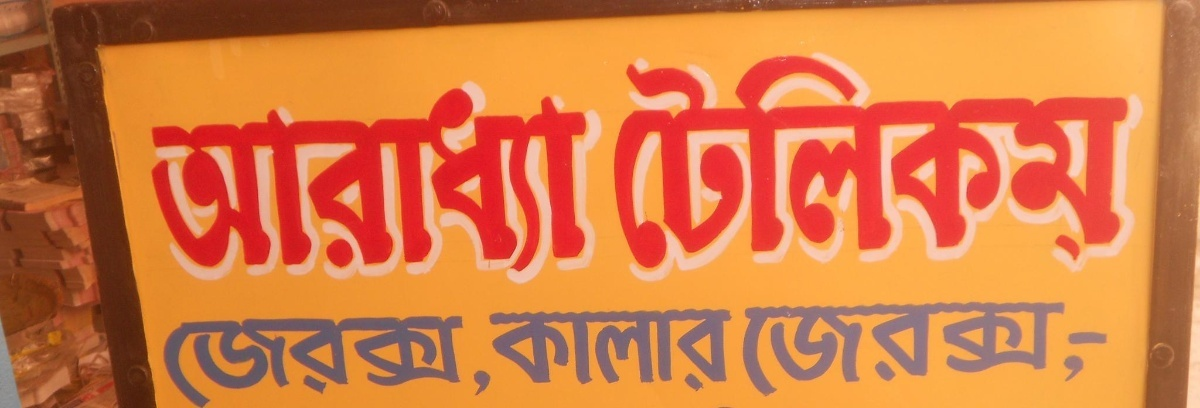text: (609, 48, 624, 281), (625, 48, 640, 281), (641, 48, 656, 281), (657, 48, 672, 281), (673, 48, 688, 281), (689, 48, 704, 281), (705, 48, 720, 281), (721, 48, 736, 281), (737, 48, 752, 281), (753, 48, 768, 281), (769, 48, 784, 281), (785, 48, 800, 281), (801, 48, 816, 281), (817, 48, 832, 281), (833, 48, 848, 281), (849, 48, 864, 281), (865, 48, 880, 281), (881, 48, 896, 281), (897, 48, 912, 281), (913, 48, 928, 281), (929, 48, 944, 281), (945, 48, 960, 281), (961, 48, 976, 281), (977, 48, 992, 281), (993, 48, 1008, 281), (1009, 48, 1024, 281), (1025, 48, 1040, 281), (1041, 48, 1056, 281), (1057, 48, 1072, 281), (1073, 48, 1088, 281), (1089, 48, 1104, 281), (1105, 48, 1120, 281), (1121, 48, 1136, 281), (161, 82, 176, 282), (177, 82, 192, 282), (193, 82, 208, 282), (209, 82, 224, 282), (225, 82, 240, 282), (241, 82, 256, 282), (257, 82, 272, 282), (273, 82, 288, 282), (289, 82, 304, 282), (305, 82, 320, 282), (321, 82, 336, 282), (337, 82, 352, 282), (353, 82, 368, 282), (369, 82, 384, 282), (385, 82, 400, 282), (401, 82, 416, 282), (417, 82, 432, 282), (433, 82, 448, 282), (449, 82, 464, 282), (465, 82, 480, 282), (481, 82, 496, 282), (497, 82, 512, 282), (513, 82, 528, 282), (529, 82, 544, 282), (545, 82, 560, 282), (561, 82, 576, 282), (577, 82, 592, 282), (149, 82, 160, 282), (1137, 48, 1144, 281), (593, 82, 601, 282), (753, 298, 768, 398), (769, 298, 784, 398), (785, 298, 800, 398), (801, 298, 816, 398), (817, 298, 832, 398), (833, 298, 848, 398), (849, 298, 864, 398), (865, 298, 880, 398), (881, 298, 896, 398), (897, 298, 912, 398), (913, 298, 928, 398), (929, 298, 944, 398), (945, 298, 960, 398), (961, 298, 976, 398), (977, 298, 992, 398), (993, 298, 1008, 398), (1009, 298, 1024, 398), (1025, 298, 1040, 398), (1041, 298, 1056, 398), (1057, 298, 1072, 398), (1073, 298, 1088, 398), (1089, 298, 1104, 398), (161, 314, 176, 408), (177, 314, 192, 408), (193, 314, 208, 408), (209, 314, 224, 408), (225, 314, 240, 408), (241, 314, 256, 408), (257, 314, 272, 408), (273, 314, 288, 408), (289, 314, 304, 408), (305, 314, 320, 408), (321, 314, 336, 408), (337, 314, 352, 408), (353, 314, 368, 408), (369, 314, 384, 408), (385, 314, 400, 408), (401, 314, 416, 408), (417, 314, 432, 408), (433, 314, 448, 408), (449, 314, 464, 408), (465, 314, 480, 408), (497, 306, 512, 397), (513, 306, 528, 397), (529, 306, 544, 397), (545, 306, 560, 397), (561, 306, 576, 397), (577, 306, 592, 397), (593, 306, 608, 397), (609, 306, 624, 397), (625, 306, 640, 397), (641, 306, 656, 397), (657, 306, 672, 397), (673, 306, 688, 397), (689, 306, 704, 397), (705, 306, 720, 397), (721, 306, 736, 397), (741, 298, 752, 398), (481, 314, 492, 408), (488, 306, 496, 397), (1105, 298, 1108, 398)
